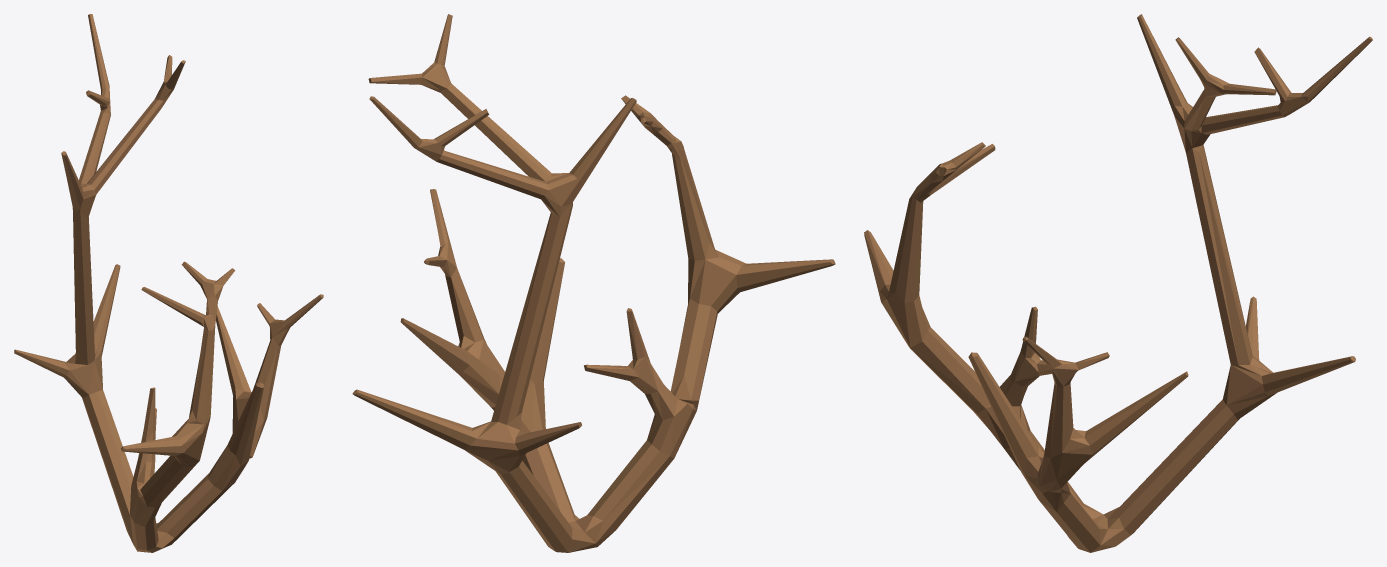
The model's file is Bush_5 Withered.fbx.
The picture shows the model from 3 angles, left to right: view 1: azimuth 30°, elevation 25°; view 2: azimuth 150°, elevation 25°; view 3: azimuth 270°, elevation 25°; orthographic projection. The views are drawn at different scales.
Parts seen in each view (by area): view 1: Bush5Withered_mesh; view 2: Bush5Withered_mesh; view 3: Bush5Withered_mesh.
Boxes of the visible parts, x1,y1,x2,y2 form: Bush5Withered_mesh: [14, 14, 323, 552]; Bush5Withered_mesh: [352, 14, 835, 552]; Bush5Withered_mesh: [864, 14, 1372, 552].
Bounding box in the file's own units: 85.51 × 136 × 115.
